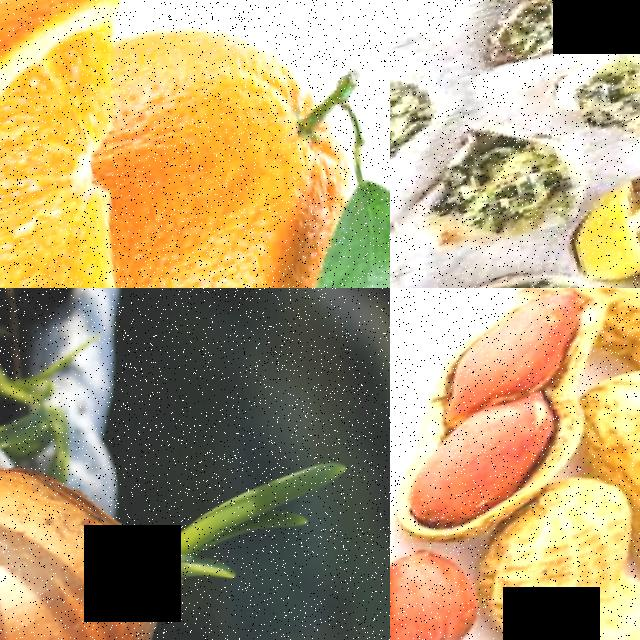onion: (0, 422, 215, 640)
orange: (86, 0, 390, 288), (0, 0, 195, 288)
peanuts: (469, 463, 640, 640), (400, 392, 569, 533), (430, 293, 590, 421), (390, 541, 495, 640)
